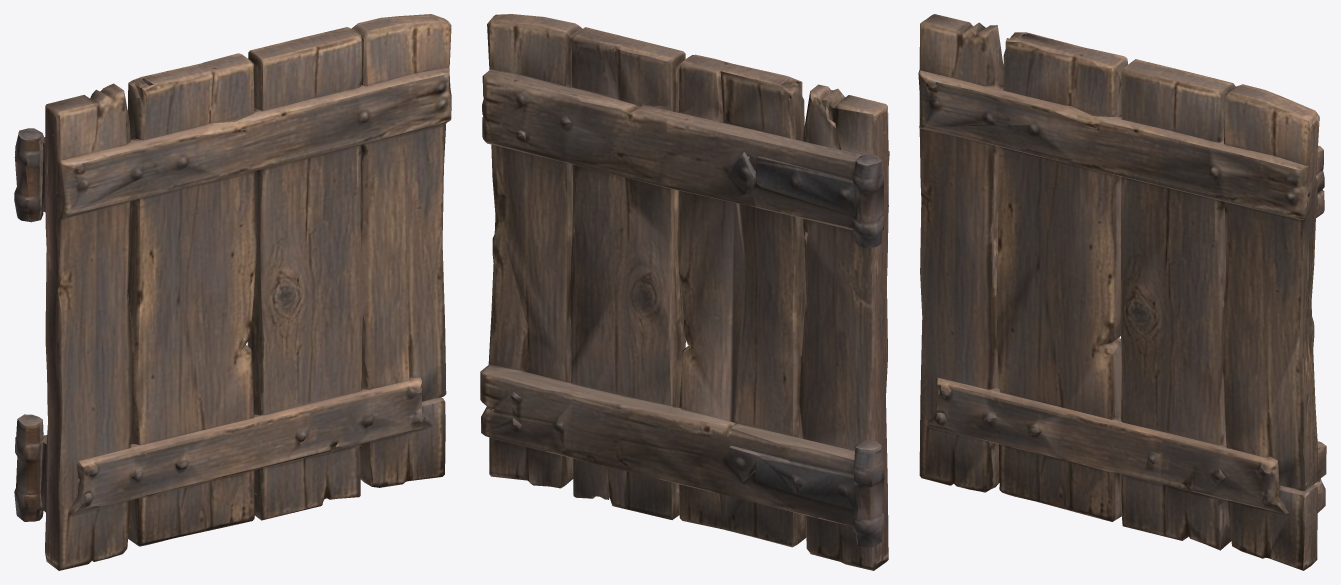
3 views of the same model, side by side, from view 1: azimuth 30°, elevation 25°; view 2: azimuth 150°, elevation 25°; view 3: azimuth 330°, elevation 25° (orthographic).
Visible parts, largest first — view 1: geometry_0; view 2: geometry_0; view 3: geometry_0.
Boxes of the visible parts, x1,y1,x2,y2 form: geometry_0: (14, 14, 451, 570); geometry_0: (480, 14, 889, 570); geometry_0: (918, 14, 1326, 570).
Size of the model in its own units: 0.8291 by 0.8984 by 0.1372.
Materials: 1 (1 with a texture image).
